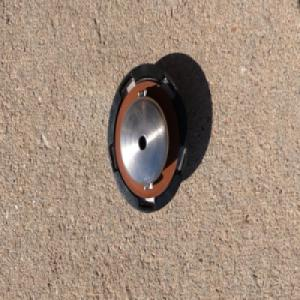FuelCap: (104, 62, 190, 215)
